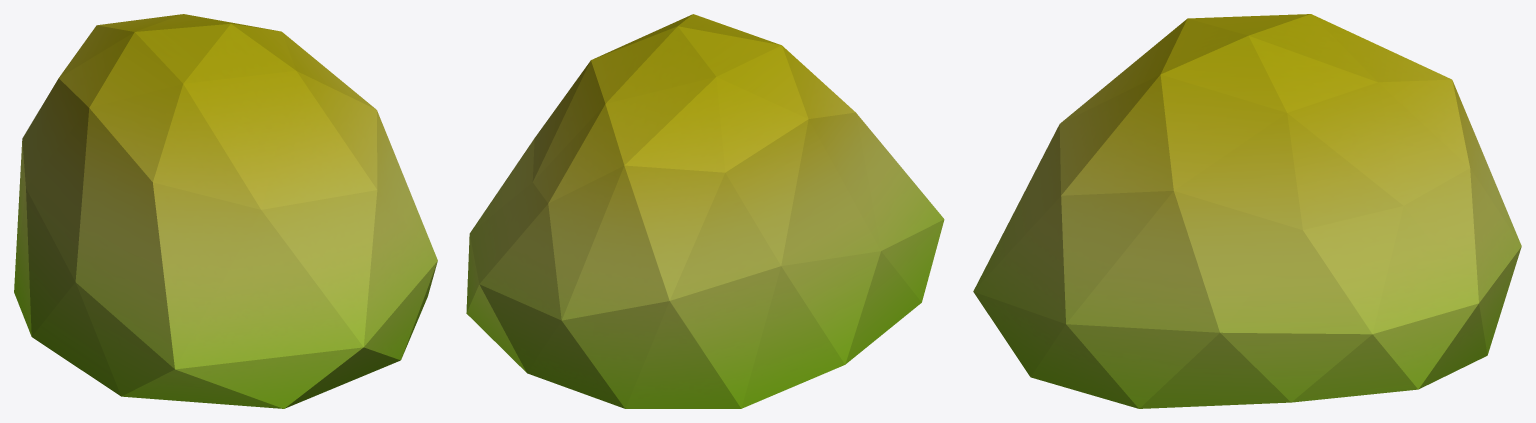
File: Forest_Stone_011.FBX
3 renders of one model, left to right at view 1: azimuth 30°, elevation 25°; view 2: azimuth 150°, elevation 25°; view 3: azimuth 270°, elevation 25°, orthographic. The views are drawn at different scales.
Visible parts, largest first — view 1: Forest_Stone_011; view 2: Forest_Stone_011; view 3: Forest_Stone_011.
Part boxes in pixels (bbox=[...]): Forest_Stone_011: bbox=[14, 14, 437, 408]; Forest_Stone_011: bbox=[466, 14, 944, 408]; Forest_Stone_011: bbox=[973, 14, 1521, 408].
Bounding box in the file's own units: 236 × 195 × 299.
1 material, 1 textured.
